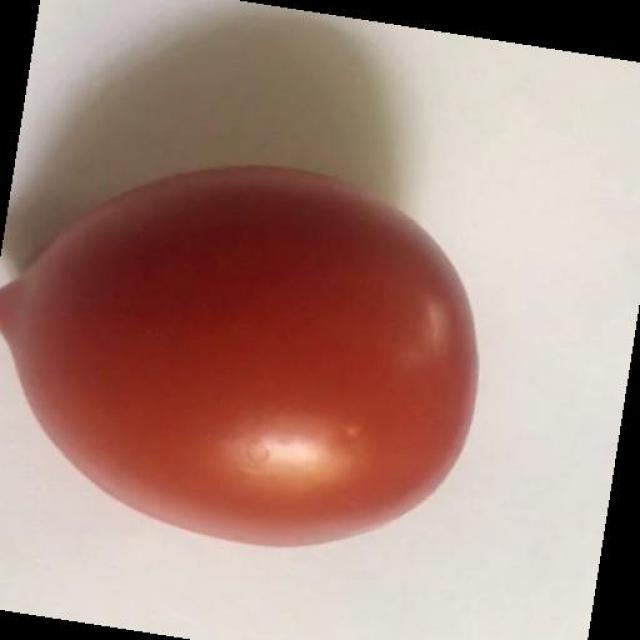Fresh Tomato: (5, 128, 492, 598)
